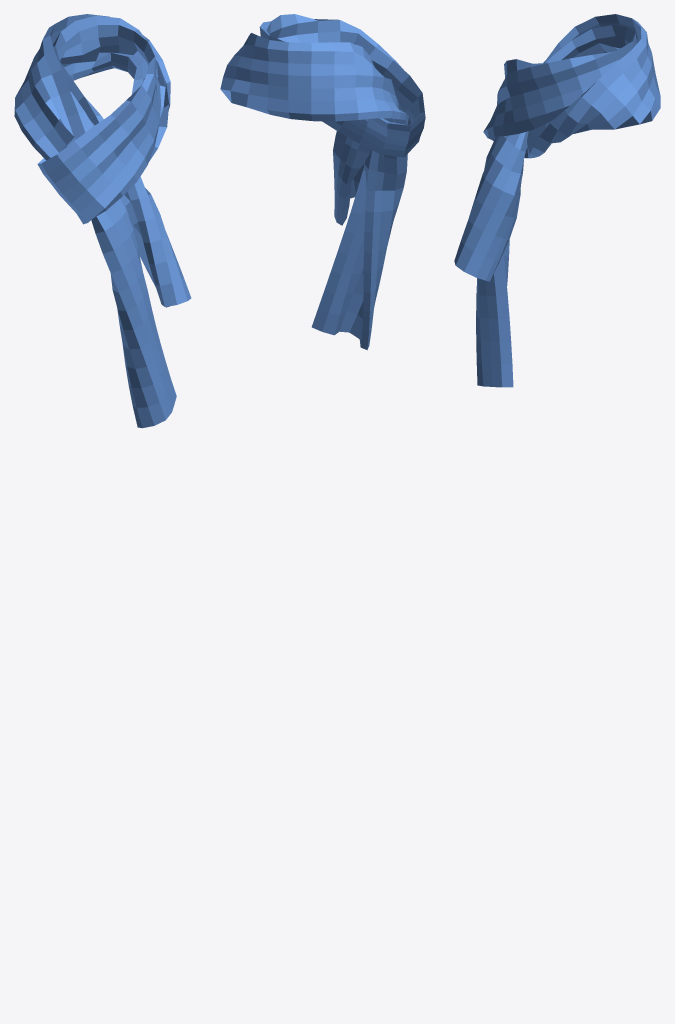
File: briefspase.fbx
3 views of the same model, side by side, from view 1: azimuth 30°, elevation 25°; view 2: azimuth 150°, elevation 25°; view 3: azimuth 270°, elevation 25° (orthographic).
Visible parts, largest first — view 1: skurt_low; view 2: skurt_low; view 3: skurt_low.
Part boxes in pixels (x1=…): skurt_low: x1=14, y1=14, x2=191, y2=428; skurt_low: x1=220, y1=14, x2=425, y2=350; skurt_low: x1=454, y1=14, x2=660, y2=387.
Size of the model in its own units: 830724 by 4958156 by 945018.
